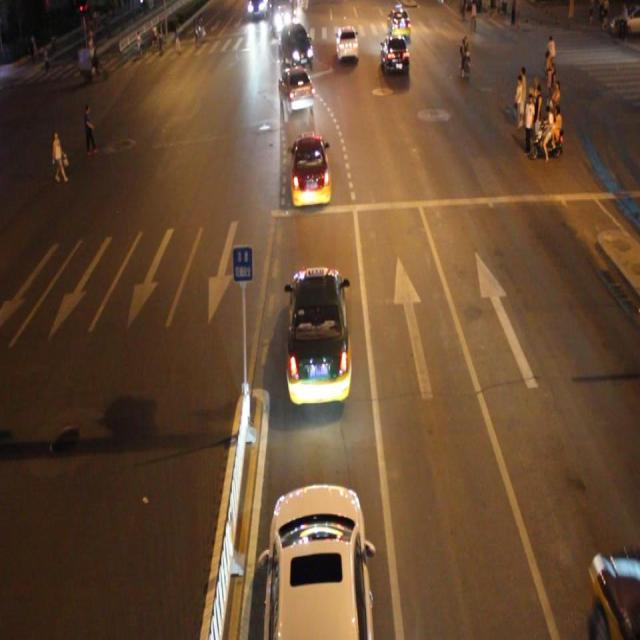car: (259, 479, 375, 640), (286, 264, 351, 402), (290, 134, 330, 206), (278, 67, 314, 113), (280, 23, 313, 68), (380, 34, 409, 76), (334, 26, 360, 62), (387, 7, 410, 40)
